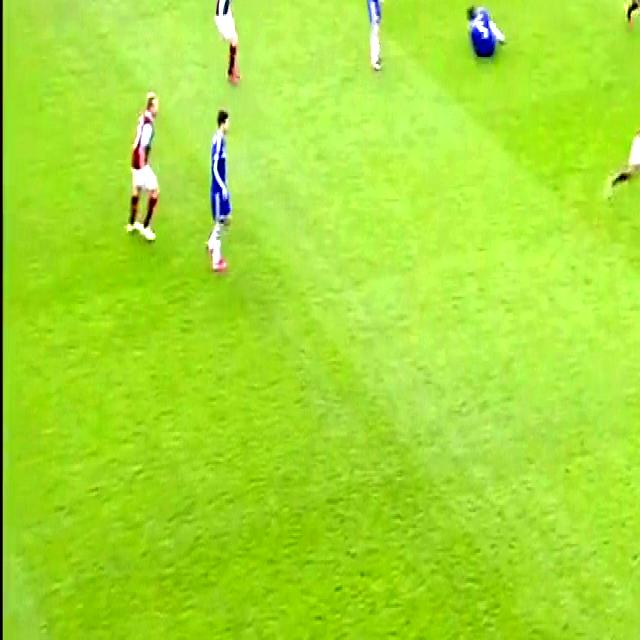goalkeeper: (636, 2, 640, 130)
soccer-player: (122, 81, 167, 250), (200, 100, 240, 277), (613, 85, 640, 214), (214, 0, 249, 98), (461, 0, 509, 69), (359, 0, 393, 78), (617, 0, 640, 36)
